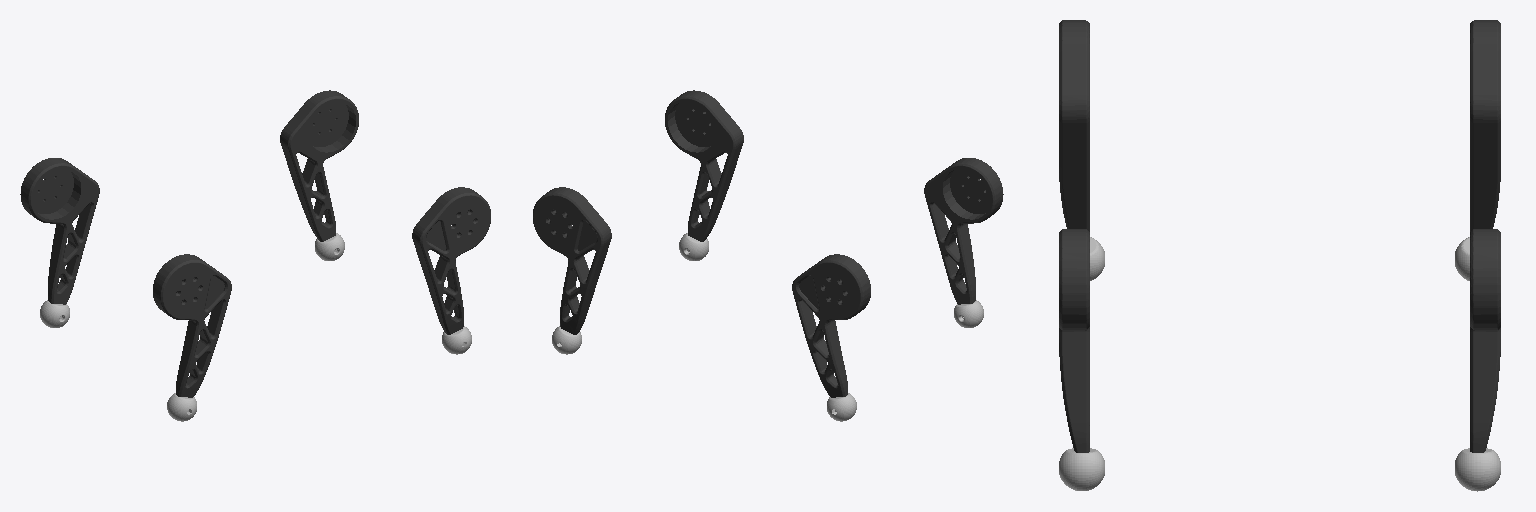
URDF robot description (reddogv2):
<?xml version="1.0" encoding="utf-8"?>
<!-- This URDF was automatically created by SolidWorks to URDF Exporter! Originally created by [author] ([email redacted]) 
     Commit Version: 1.6.0-4-g7f85cfe  Build Version: 1.6.7995.38578
     For more information, please see http://wiki.ros.org/sw_urdf_exporter -->
<robot
  name="reddogv2">
  <link
    name="base">
    <inertial>
      <origin
        xyz="-0.00049526 -0.00246477 0.00397262"
        rpy="0 0 0" />
      <mass
        value="2.38753000" />
      <inertia
        ixx="0.00657139"
        ixy="-0.00000182"
        ixz="-0.00001915"
        iyy="0.02056086"
        iyz="-0.00000315"
        izz="0.02489182" />
    </inertial>
    <visual>
      <origin
        xyz="0 0 0"
        rpy="0 0 0" />
      <geometry>
        <mesh
          filename="../meshes/base_link.STL" />
      </geometry>
      <material
        name="">
        <color
          rgba="0.752941176470588 0.752941176470588 0.752941176470588 1" />
      </material>
    </visual>
    <collision>
      <origin
        xyz="0 0 0"
        rpy="0 0 0" />
      <geometry>
        <mesh
          filename="../meshes/base_link.STL" />
      </geometry>
    </collision>
  </link>
  <link
    name="FL_hip">
    <inertial>
      <origin
        xyz="0.03749935 0.01393191 -0.00000145"
        rpy="0 0 0" />
      <mass
        value="0.32473000" />
      <inertia
        ixx="0.00012292"
        ixy="0.00000496"
        ixz="0.00000008"
        iyy="0.00013972"
        iyz="0.000000001"
        izz="0.00013011" />
    </inertial>
    <visual>
      <origin
        xyz="0 0 0"
        rpy="0 0 0" />
      <geometry>
        <mesh
          filename="../meshes/FL_hip.STL" />
      </geometry>
      <material
        name="">
        <color
          rgba="0.752941176470588 0.752941176470588 0.752941176470588 1" />
      </material>
    </visual>
    <collision>
      <origin
        xyz="0 0 0"
        rpy="0 0 0" />
      <geometry>
        <mesh
          filename="../meshes/FL_hip.STL" />
      </geometry>
    </collision>
  </link>
  <joint
    name="FL_hip_joint"
    type="revolute">
    <origin
      xyz="0.127849975000003 0.052569696969697 0"
      rpy="0 0 0" />
    <parent
      link="base" />
    <child
      link="FL_hip" />
    <axis
      xyz="1 0 0" />
    <limit
      lower="-9.42"
      upper="9.42"
      effort="23.7"
      velocity="30.1" />
  </joint>
  <link
    name="FL_thigh">
    <inertial>
      <origin
        xyz="-0.00008536 0.02535762 -0.12011923"
        rpy="0 0 0" />
      <mass
        value="0.36170000" />
      <inertia
        ixx="0.00046343"
        ixy="0.00000052"
        ixz="0.00000051"
        iyy="0.00046925"
        iyz="-0.00006450"
        izz="0.00014597" />
    </inertial>
    <visual>
      <origin
        xyz="0 0 0"
        rpy="0 0 0" />
      <geometry>
        <mesh
          filename="../meshes/FL_thigh.STL" />
      </geometry>
      <material
        name="">
        <color
          rgba="0.752941176470588 0.752941176470588 0.752941176470588 1" />
      </material>
    </visual>
    <collision>
      <origin
        xyz="0 0 0"
        rpy="0 0 0" />
      <geometry>
        <mesh
          filename="../meshes/FL_thigh.STL" />
      </geometry>
    </collision>
  </link>
  <joint
    name="FL_thigh_joint"
    type="revolute">
    <origin
      xyz="0.038500025 0.0374999999999999 0"
      rpy="0 0 0" />
    <parent
      link="FL_hip" />
    <child
      link="FL_thigh" />
    <axis
      xyz="0 1 0" />
    <limit
      lower="-9.42"
      upper="9.42"
      effort="23.7"
      velocity="30.1" />
  </joint>
  <link
    name="FL_calf">
    <inertial>
      <origin
        xyz="-0.01342846 0.01083610 -0.03583329"
        rpy="0 0 0" />
      <mass
        value="0.07020000" />
      <inertia
        ixx="0.00014252"
        ixy="0.00000121"
        ixz="0.00000337"
        iyy="0.00016911"
        iyz="0.00000626"
        izz="0.00003162" />
    </inertial>
    <visual>
      <origin
        xyz="0 0 0"
        rpy="0 0 0" />
      <geometry>
        <mesh
          filename="../meshes/FL_calf.STL" />
      </geometry>
      <material
        name="">
        <color
          rgba="0.286274509803922 0.286274509803922 0.286274509803922 1" />
      </material>
    </visual>
    <collision>
      <origin
        xyz="0 0 0"
        rpy="0 0 0" />
      <geometry>
        <mesh
          filename="../meshes/FL_calf.STL" />
      </geometry>
    </collision>
  </link>
  <joint
    name="FL_calf_joint"
    type="revolute">
    <origin
      xyz="0 0.0357602928805075 -0.129999999999999"
      rpy="0 0 0" />
    <parent
      link="FL_thigh" />
    <child
      link="FL_calf" />
    <axis
      xyz="0 1 0" />
    <limit
      lower="-9.42"
      upper="9.42"
      effort="35.55"
      velocity="20.07" />
  </joint>
  <link
    name="FL_foot">
    <inertial>
      <origin
        xyz="0.00036681 -0.00004956 0.01459165"
        rpy="0 0 0" />
      <mass
        value="0.01019000" />
      <inertia
        ixx="0.00000105"
        ixy="0.000000001"
        ixz="0.00000004"
        iyy="0.00000106"
        iyz="0.000000001"
        izz="0.00000118" />
    </inertial>
    <visual>
      <origin
        xyz="0 0 0"
        rpy="0 0 0" />
      <geometry>
        <mesh
          filename="../meshes/FL_foot.STL" />
      </geometry>
      <material
        name="">
        <color
          rgba="0.752941176470588 0.752941176470588 0.752941176470588 1" />
      </material>
    </visual>
    <collision>
      <origin
        xyz="0 0 0"
        rpy="0 0 0" />
      <geometry>
        <mesh
          filename="../meshes/FL_foot.STL" />
      </geometry>
    </collision>
  </link>
  <joint
    name="FL_foot_joint"
    type="fixed" dont_collapse="true">
    <origin
      xyz="-0.000126383026934546 0.00527026536374897 -0.156"
      rpy="0 0 0" />
    <parent
      link="FL_calf" />
    <child
      link="FL_foot" />
    <axis
      xyz="0 0 0" />
  </joint>
  <link
    name="FR_hip">
    <inertial>
      <origin
        xyz="0.03749932 -0.01393189 -0.00000147"
        rpy="0 0 0" />
      <mass
        value="0.32473000" />
      <inertia
        ixx="0.00012292"
        ixy="-0.00000496"
        ixz="0.00000008"
        iyy="0.00013972"
        iyz="0.000000001"
        izz="0.00013012" />
    </inertial>
    <visual>
      <origin
        xyz="0 0 0"
        rpy="0 0 0" />
      <geometry>
        <mesh
          filename="../meshes/FR_hip.STL" />
      </geometry>
      <material
        name="">
        <color
          rgba="0.752941176470588 0.752941176470588 0.752941176470588 1" />
      </material>
    </visual>
    <collision>
      <origin
        xyz="0 0 0"
        rpy="0 0 0" />
      <geometry>
        <mesh
          filename="../meshes/FR_hip.STL" />
      </geometry>
    </collision>
  </link>
  <joint
    name="FR_hip_joint"
    type="revolute">
    <origin
      xyz="0.127849975000003 -0.057430303030303 0"
      rpy="0 0 0" />
    <parent
      link="base" />
    <child
      link="FR_hip" />
    <axis
      xyz="1 0 0" />
    <limit
      lower="-9.42"
      upper="9.42"
      effort="23.7"
      velocity="30.1" />
  </joint>
  <link
    name="FR_thigh">
    <inertial>
      <origin
        xyz="-0.00008544 -0.02535764 -0.12012032"
        rpy="0 0 0" />
      <mass
        value="0.36170000" />
      <inertia
        ixx="0.00046340"
        ixy="-0.00000052"
        ixz="0.00000051"
        iyy="0.00046922"
        iyz="0.00006450"
        izz="0.00014598" />
    </inertial>
    <visual>
      <origin
        xyz="0 0 0"
        rpy="0 0 0" />
      <geometry>
        <mesh
          filename="../meshes/FR_thigh.STL" />
      </geometry>
      <material
        name="">
        <color
          rgba="0.752941176470588 0.752941176470588 0.752941176470588 1" />
      </material>
    </visual>
    <collision>
      <origin
        xyz="0 0 0"
        rpy="0 0 0" />
      <geometry>
        <mesh
          filename="../meshes/FR_thigh.STL" />
      </geometry>
    </collision>
  </link>
  <joint
    name="FR_thigh_joint"
    type="revolute">
    <origin
      xyz="0.0385000250000001 -0.0374999999999998 0"
      rpy="0 0 0" />
    <parent
      link="FR_hip" />
    <child
      link="FR_thigh" />
    <axis
      xyz="0 1 0" />
    <limit
      lower="-9.42"
      upper="9.42"
      effort="23.7"
      velocity="30.1" />
  </joint>
  <link
    name="FR_calf">
    <inertial>
      <origin
        xyz="-0.01342849 -0.01083621 -0.03583166"
        rpy="0 0 0" />
      <mass
        value="0.07020000" />
      <inertia
        ixx="0.00014253"
        ixy="-0.00000121"
        ixz="0.00000337"
        iyy="0.00016913"
        iyz="-0.00000626"
        izz="0.00003162" />
    </inertial>
    <visual>
      <origin
        xyz="0 0 0"
        rpy="0 0 0" />
      <geometry>
        <mesh
          filename="../meshes/FR_calf.STL" />
      </geometry>
      <material
        name="">
        <color
          rgba="0.286274509803922 0.286274509803922 0.286274509803922 1" />
      </material>
    </visual>
    <collision>
      <origin
        xyz="0 0 0"
        rpy="0 0 0" />
      <geometry>
        <mesh
          filename="../meshes/FR_calf.STL" />
      </geometry>
    </collision>
  </link>
  <joint
    name="FR_calf_joint"
    type="revolute">
    <origin
      xyz="0 -0.0357602928805074 -0.129999999999999"
      rpy="0 0 0" />
    <parent
      link="FR_thigh" />
    <child
      link="FR_calf" />
    <axis
      xyz="0 1 0" />
    <limit
      lower="-9.42"
      upper="9.42"
      effort="35.55"
      velocity="20.07" />
  </joint>
  <link
    name="FR_foot">
    <inertial>
      <origin
        xyz="0.00036670 0.00004956 0.01459176"
        rpy="0 0 0" />
      <mass
        value="0.01019000" />
      <inertia
        ixx="0.00000104"
        ixy="0.000000001"
        ixz="0.00000004"
        iyy="0.00000106"
        iyz="0.000000001"
        izz="0.00000118" />
    </inertial>
    <visual>
      <origin
        xyz="0 0 0"
        rpy="0 0 0" />
      <geometry>
        <mesh
          filename="../meshes/FR_foot.STL" />
      </geometry>
      <material
        name="">
        <color
          rgba="0.752941176470588 0.752941176470588 0.752941176470588 1" />
      </material>
    </visual>
    <collision>
      <origin
        xyz="0 0 0"
        rpy="0 0 0" />
      <geometry>
        <mesh
          filename="../meshes/FR_foot.STL" />
      </geometry>
    </collision>
  </link>
  <joint
    name="FR_foot_joint"
    type="fixed" dont_collapse="true">
    <origin
      xyz="-0.000126383026935517 -0.00527026536374889 -0.156"
      rpy="0 0 0" />
    <parent
      link="FR_calf" />
    <child
      link="FR_foot" />
    <axis
      xyz="0 0 0" />
  </joint>
  <link
    name="RL_hip">
    <inertial>
      <origin
        xyz="-0.03749935 0.01393191 0.00000145"
        rpy="0 0 0" />
      <mass
        value="0.32473000" />
      <inertia
        ixx="0.00012292"
        ixy="-0.00000496"
        ixz="0.00000008"
        iyy="0.00013972"
        iyz="0.000000001"
        izz="0.00013011" />
    </inertial>
    <visual>
      <origin
        xyz="0 0 0"
        rpy="0 0 0" />
      <geometry>
        <mesh
          filename="../meshes/RL_hip.STL" />
      </geometry>
      <material
        name="">
        <color
          rgba="0.752941176470588 0.752941176470588 0.752941176470588 1" />
      </material>
    </visual>
    <collision>
      <origin
        xyz="0 0 0"
        rpy="0 0 0" />
      <geometry>
        <mesh
          filename="../meshes/RL_hip.STL" />
      </geometry>
    </collision>
  </link>
  <joint
    name="RL_hip_joint"
    type="revolute">
    <origin
      xyz="-0.128149974999993 0.052569696969696 0"
      rpy="0 0 0" />
    <parent
      link="base" />
    <child
      link="RL_hip" />
    <axis
      xyz="1 0 0" />
    <limit
      lower="-9.42"
      upper="9.42"
      effort="23.7"
      velocity="30.1" />
  </joint>
  <link
    name="RL_thigh">
    <inertial>
      <origin
        xyz="-0.00008536 0.02535762 -0.12011923"
        rpy="0 0 0" />
      <mass
        value="0.36170000" />
      <inertia
        ixx="0.00046343"
        ixy="0.00000052"
        ixz="0.00000051"
        iyy="0.00046925"
        iyz="-0.00006450"
        izz="0.00014597" />
    </inertial>
    <visual>
      <origin
        xyz="0 0 0"
        rpy="0 0 0" />
      <geometry>
        <mesh
          filename="../meshes/RL_thigh.STL" />
      </geometry>
      <material
        name="">
        <color
          rgba="0.752941176470588 0.752941176470588 0.752941176470588 1" />
      </material>
    </visual>
    <collision>
      <origin
        xyz="0 0 0"
        rpy="0 0 0" />
      <geometry>
        <mesh
          filename="../meshes/RL_thigh.STL" />
      </geometry>
    </collision>
  </link>
  <joint
    name="RL_thigh_joint"
    type="revolute">
    <origin
      xyz="-0.0385000250000009 0.0374999999999898 0"
      rpy="0 0 0" />
    <parent
      link="RL_hip" />
    <child
      link="RL_thigh" />
    <axis
      xyz="0 1 0" />
    <limit
      lower="-9.42"
      upper="9.42"
      effort="23.7"
      velocity="30.1" />
  </joint>
  <link
    name="RL_calf">
    <inertial>
      <origin
        xyz="0.01342808 0.01083611 -0.03583229"
        rpy="0 0 0" />
      <mass
        value="0.07020000" />
      <inertia
        ixx="0.00014252"
        ixy="-0.00000121"
        ixz="-0.00000337"
        iyy="0.00016912"
        iyz="0.00000626"
        izz="0.00003161" />
    </inertial>
    <visual>
      <origin
        xyz="0 0 0"
        rpy="0 0 0" />
      <geometry>
        <mesh
          filename="../meshes/RL_calf.STL" />
      </geometry>
      <material
        name="">
        <color
          rgba="0.286274509803922 0.286274509803922 0.286274509803922 1" />
      </material>
    </visual>
    <collision>
      <origin
        xyz="0 0 0"
        rpy="0 0 0" />
      <geometry>
        <mesh
          filename="../meshes/RL_calf.STL" />
      </geometry>
    </collision>
  </link>
  <joint
    name="RL_calf_joint"
    type="revolute">
    <origin
      xyz="0 0.0357602928805211 -0.130000000000007"
      rpy="0 0 0" />
    <parent
      link="RL_thigh" />
    <child
      link="RL_calf" />
    <axis
      xyz="0 1 0" />
    <limit
      lower="-9.42"
      upper="9.42"
      effort="35.55"
      velocity="20.07" />
  </joint>
  <link
    name="RL_foot">
    <inertial>
      <origin
        xyz="-0.00038651 -0.00004956 0.01459693"
        rpy="0 0 0" />
      <mass
        value="0.01019000" />
      <inertia
        ixx="0.00000105"
        ixy="0.000000001"
        ixz="-0.00000004"
        iyy="0.00000106"
        iyz="0.000000001"
        izz="0.00000118" />
    </inertial>
    <visual>
      <origin
        xyz="0 0 0"
        rpy="0 0 0" />
      <geometry>
        <mesh
          filename="../meshes/RL_foot.STL" />
      </geometry>
      <material
        name="">
        <color
          rgba="0.752941176470588 0.752941176470588 0.752941176470588 1" />
      </material>
    </visual>
    <collision>
      <origin
        xyz="0 0 0"
        rpy="0 0 0" />
      <geometry>
        <mesh
          filename="../meshes/RL_foot.STL" />
      </geometry>
    </collision>
  </link>
  <joint
    name="RL_foot_joint"
    type="fixed" dont_collapse="true">
    <origin
      xyz="0.000126383026936377 0.00527026536374187 -0.155999999999993"
      rpy="0 0 0" />
    <parent
      link="RL_calf" />
    <child
      link="RL_foot" />
    <axis
      xyz="0 0 0" />
  </joint>
  <link
    name="RR_hip">
    <inertial>
      <origin
        xyz="-0.03749932 -0.01393189 0.00000146"
        rpy="0 0 0" />
      <mass
        value="0.32473000" />
      <inertia
        ixx="0.00012292"
        ixy="0.00000496"
        ixz="0.00000008"
        iyy="0.00013972"
        iyz="0.000000001"
        izz="0.00013011" />
    </inertial>
    <visual>
      <origin
        xyz="0 0 0"
        rpy="0 0 0" />
      <geometry>
        <mesh
          filename="../meshes/RR_hip.STL" />
      </geometry>
      <material
        name="">
        <color
          rgba="0.752941176470588 0.752941176470588 0.752941176470588 1" />
      </material>
    </visual>
    <collision>
      <origin
        xyz="0 0 0"
        rpy="0 0 0" />
      <geometry>
        <mesh
          filename="../meshes/RR_hip.STL" />
      </geometry>
    </collision>
  </link>
  <joint
    name="RR_hip_joint"
    type="revolute">
    <origin
      xyz="-0.128149974999996 -0.057430303030302 0"
      rpy="0 0 0" />
    <parent
      link="base" />
    <child
      link="RR_hip" />
    <axis
      xyz="1 0 0" />
    <limit
      lower="-9.42"
      upper="9.42"
      effort="23.7"
      velocity="30.1" />
  </joint>
  <link
    name="RR_thigh">
    <inertial>
      <origin
        xyz="-0.00008543 -0.02535764 -0.12012031"
        rpy="0 0 0" />
      <mass
        value="0.36170000" />
      <inertia
        ixx="0.00046340"
        ixy="-0.00000052"
        ixz="0.00000051"
        iyy="0.00046922"
        iyz="0.00006450"
        izz="0.00014598" />
    </inertial>
    <visual>
      <origin
        xyz="0 0 0"
        rpy="0 0 0" />
      <geometry>
        <mesh
          filename="../meshes/RR_thigh.STL" />
      </geometry>
      <material
        name="">
        <color
          rgba="0.752941176470588 0.752941176470588 0.752941176470588 1" />
      </material>
    </visual>
    <collision>
      <origin
        xyz="0 0 0"
        rpy="0 0 0" />
      <geometry>
        <mesh
          filename="../meshes/RR_thigh.STL" />
      </geometry>
    </collision>
  </link>
  <joint
    name="RR_thigh_joint"
    type="revolute">
    <origin
      xyz="-0.0385000250000022 -0.0374999999999918 0"
      rpy="0 0 0" />
    <parent
      link="RR_hip" />
    <child
      link="RR_thigh" />
    <axis
      xyz="0 1 0" />
    <limit
      lower="-9.42"
      upper="9.42"
      effort="23.7"
      velocity="30.1" />
  </joint>
  <link
    name="RR_calf">
    <inertial>
      <origin
        xyz="0.01342880 -0.01083622 -0.03583285"
        rpy="0 0 0" />
      <mass
        value="0.07020000" />
      <inertia
        ixx="0.00014253"
        ixy="0.00000121"
        ixz="-0.00000337"
        iyy="0.00016913"
        iyz="-0.00000626"
        izz="0.00003162" />
    </inertial>
    <visual>
      <origin
        xyz="0 0 0"
        rpy="0 0 0" />
      <geometry>
        <mesh
          filename="../meshes/RR_calf.STL" />
      </geometry>
      <material
        name="">
        <color
          rgba="0.286274509803922 0.286274509803922 0.286274509803922 1" />
      </material>
    </visual>
    <collision>
      <origin
        xyz="0 0 0"
        rpy="0 0 0" />
      <geometry>
        <mesh
          filename="../meshes/RR_calf.STL" />
      </geometry>
    </collision>
  </link>
  <joint
    name="RR_calf_joint"
    type="revolute">
    <origin
      xyz="0 -0.0357602928805216 -0.130000000000004"
      rpy="0 0 0" />
    <parent
      link="RR_thigh" />
    <child
      link="RR_calf" />
    <axis
      xyz="0 1 0" />
    <limit
      lower="-9.42"
      upper="9.42"
      effort="35.55"
      velocity="20.07" />
  </joint>
  <link
    name="RR_foot">
    <inertial>
      <origin
        xyz="-0.00038655 0.00004956 0.01459708"
        rpy="0 0 0" />
      <mass
        value="0.01019000" />
      <inertia
        ixx="0.00000105"
        ixy="0.000000001"
        ixz="-0.00000004"
        iyy="0.00000106"
        iyz="0.000000001"
        izz="0.00000118" />
    </inertial>
    <visual>
      <origin
        xyz="0 0 0"
        rpy="0 0 0" />
      <geometry>
        <mesh
          filename="../meshes/RR_foot.STL" />
      </geometry>
      <material
        name="">
        <color
          rgba="0.752941176470588 0.752941176470588 0.752941176470588 1" />
      </material>
    </visual>
    <collision>
      <origin
        xyz="0 0 0"
        rpy="0 0 0" />
      <geometry>
        <mesh
          filename="../meshes/RR_foot.STL" />
      </geometry>
    </collision>
  </link>
  <joint
    name="RR_foot_joint"
    type="fixed" dont_collapse="true">
    <origin
      xyz="0.00012638 -0.0052703 -0.156"
      rpy="0 0 0" />
    <parent
      link="RR_calf" />
    <child
      link="RR_foot" />
    <axis
      xyz="0 0 0" />
  </joint>
</robot>

--- What the picture shows (computed from the rendered views, not written in the file) ---
The picture shows the robot from 3 angles, left to right: view 1: azimuth 30°, elevation 25°; view 2: azimuth 150°, elevation 25°; view 3: azimuth 270°, elevation 25°; orthographic projection.
Robot: reddogv2 — 17 links, 16 joints (12 revolute, 4 fixed); root link base; default pose: all joints at 0.
Visible links, largest first — view 1: RL_calf, RR_calf, FL_calf, FR_calf, RR_foot, RL_foot, FR_foot, FL_foot; view 2: RR_calf, RL_calf, FR_calf, FL_calf, RL_foot, RR_foot, FL_foot, FR_foot; view 3: FR_calf, FL_calf, RL_calf, RR_calf, FL_foot, FR_foot.
Link boxes in pixels (bbox=[...]): RL_calf: bbox=[20, 158, 99, 304]; RR_calf: bbox=[153, 254, 231, 397]; FL_calf: bbox=[280, 90, 358, 241]; FR_calf: bbox=[412, 187, 490, 334]; RR_foot: bbox=[167, 393, 196, 421]; RL_foot: bbox=[40, 300, 69, 327]; FR_foot: bbox=[442, 326, 471, 354]; FL_foot: bbox=[315, 233, 344, 260]; RR_calf: bbox=[924, 158, 1003, 304]; RL_calf: bbox=[792, 254, 870, 397]; FR_calf: bbox=[665, 90, 743, 241]; FL_calf: bbox=[533, 187, 611, 334]; RL_foot: bbox=[827, 393, 856, 421]; RR_foot: bbox=[954, 300, 983, 327]; FL_foot: bbox=[552, 326, 581, 354]; FR_foot: bbox=[679, 233, 708, 260]; FR_calf: bbox=[1059, 229, 1089, 452]; FL_calf: bbox=[1470, 229, 1500, 452]; RL_calf: bbox=[1470, 20, 1500, 231]; RR_calf: bbox=[1059, 20, 1089, 231]; FL_foot: bbox=[1455, 448, 1500, 491]; FR_foot: bbox=[1059, 448, 1104, 490].
Size in the robot's own frame: 0.401 by 0.2982 by 0.19 metres.
Meshes: 17 distinct files referenced, 8 mesh visuals loaded (8 binary STL); not drawn: 9 (reference not matched to a file when rendering).